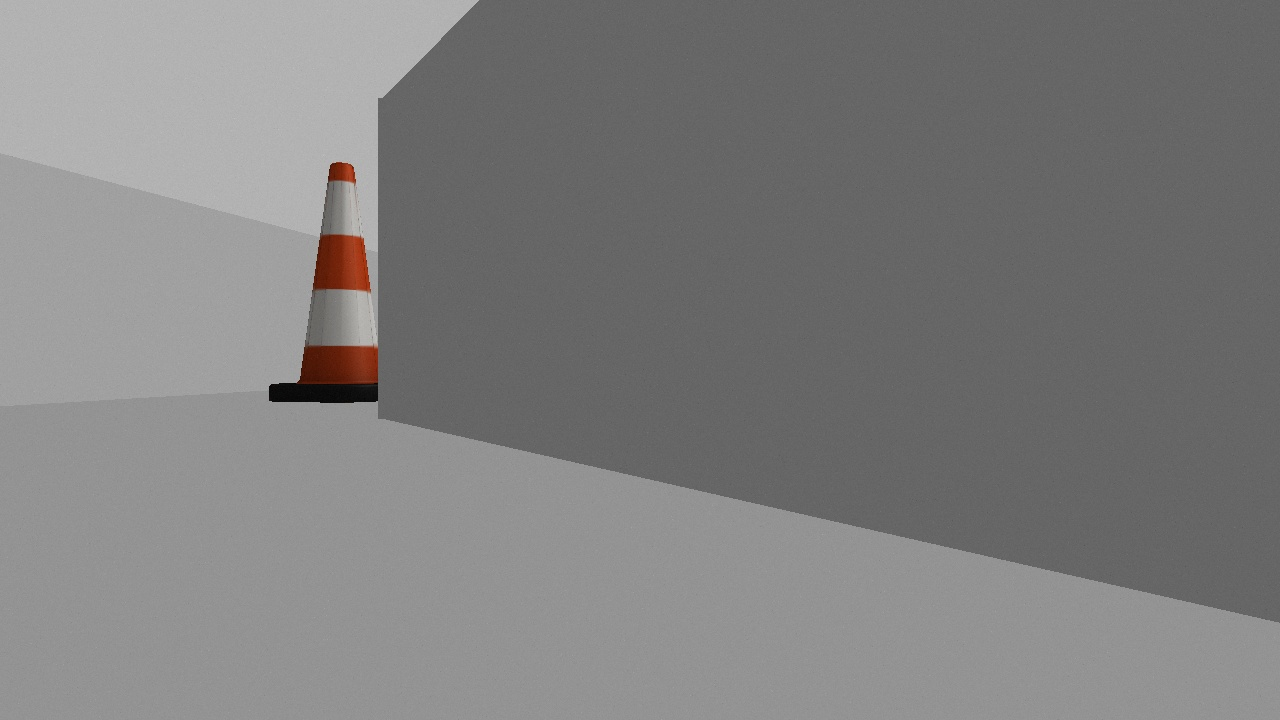barricade: (268, 150, 410, 402)
